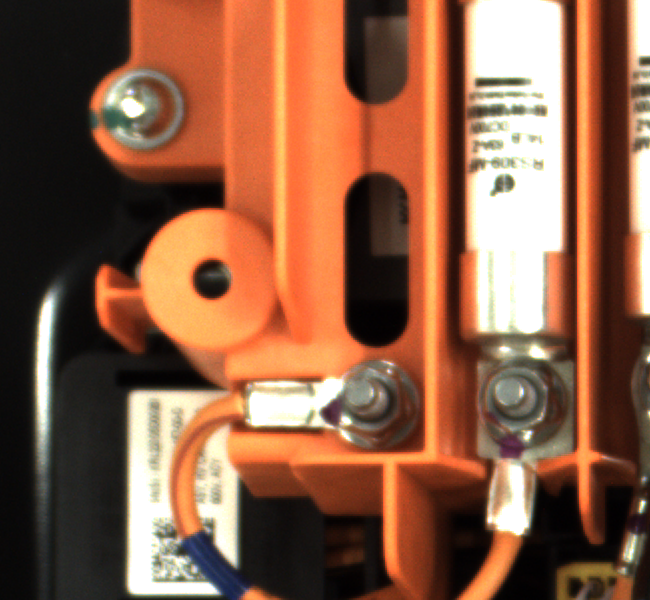screw_m: (91, 65, 190, 152)
screw_s: (311, 355, 427, 446), (484, 370, 571, 455)
